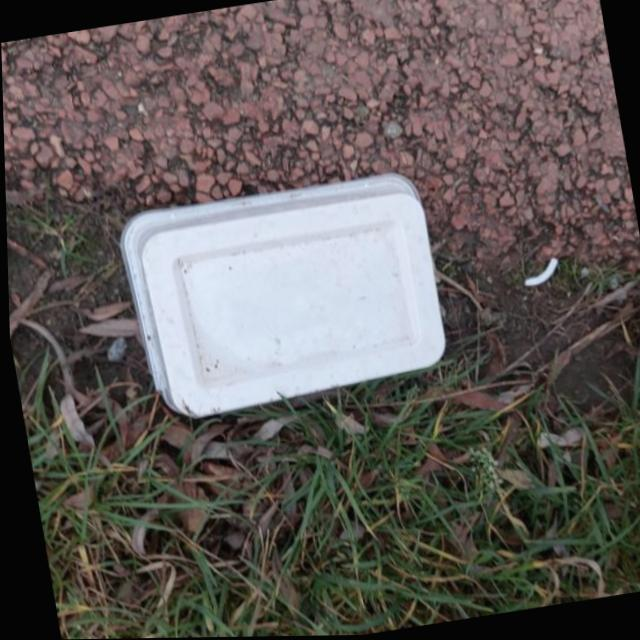Plastic: (108, 167, 454, 433)
